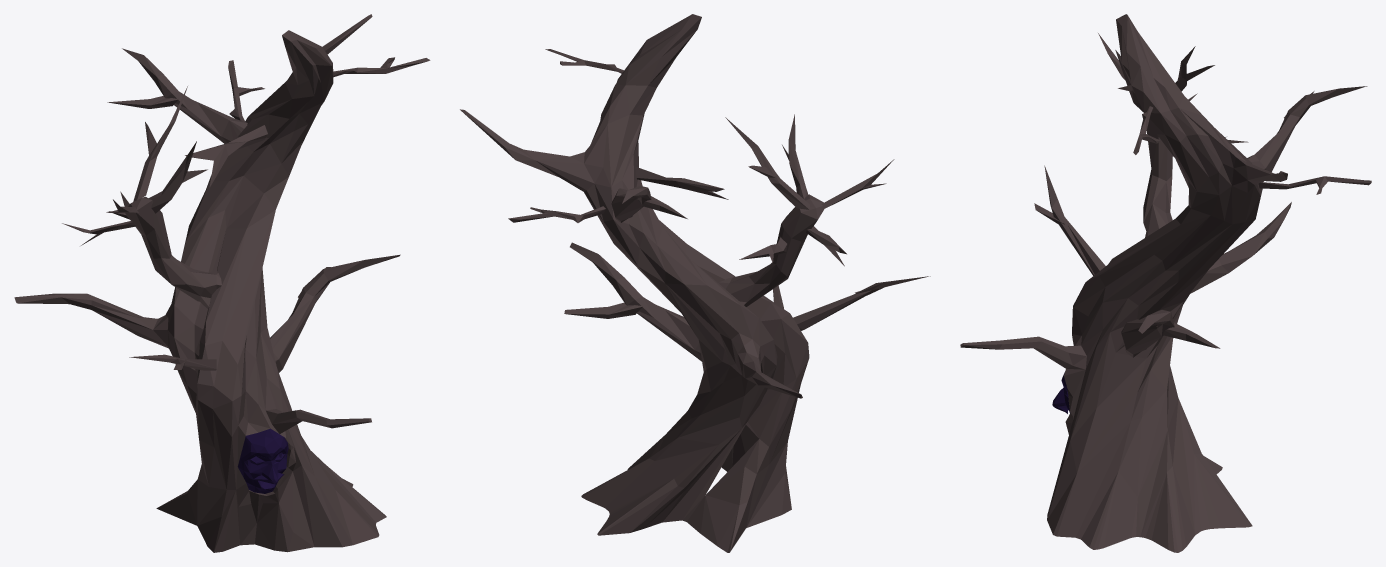
File: tree5.fbx
3 views of the same model, side by side, from view 1: azimuth 30°, elevation 25°; view 2: azimuth 150°, elevation 25°; view 3: azimuth 270°, elevation 25° (orthographic). The views are drawn at different scales.
Visible parts, largest first — view 1: Chimera1.004; view 2: Chimera1.004; view 3: Chimera1.004.
Boxes of the visible parts, left/top/right/bottom form: Chimera1.004: left=14, top=14, right=430, bottom=552; Chimera1.004: left=460, top=14, right=930, bottom=552; Chimera1.004: left=960, top=14, right=1371, bottom=552.
Size of the model in its own units: 2898 by 3783 by 2845.
